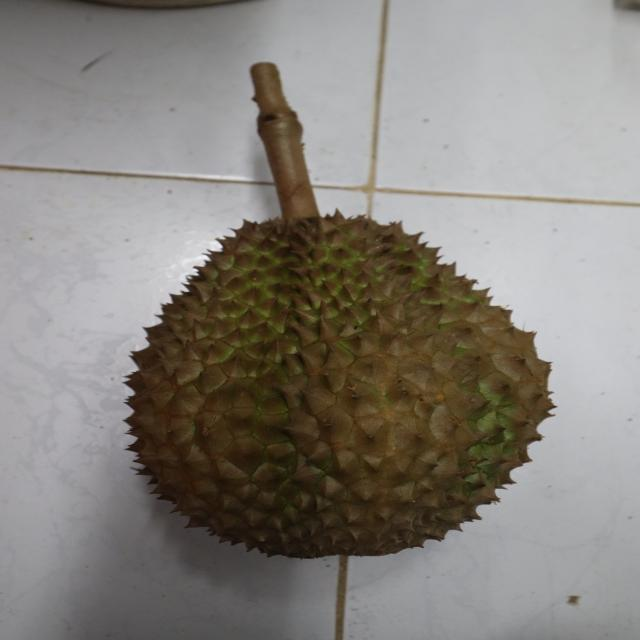mature: (117, 210, 562, 562)
